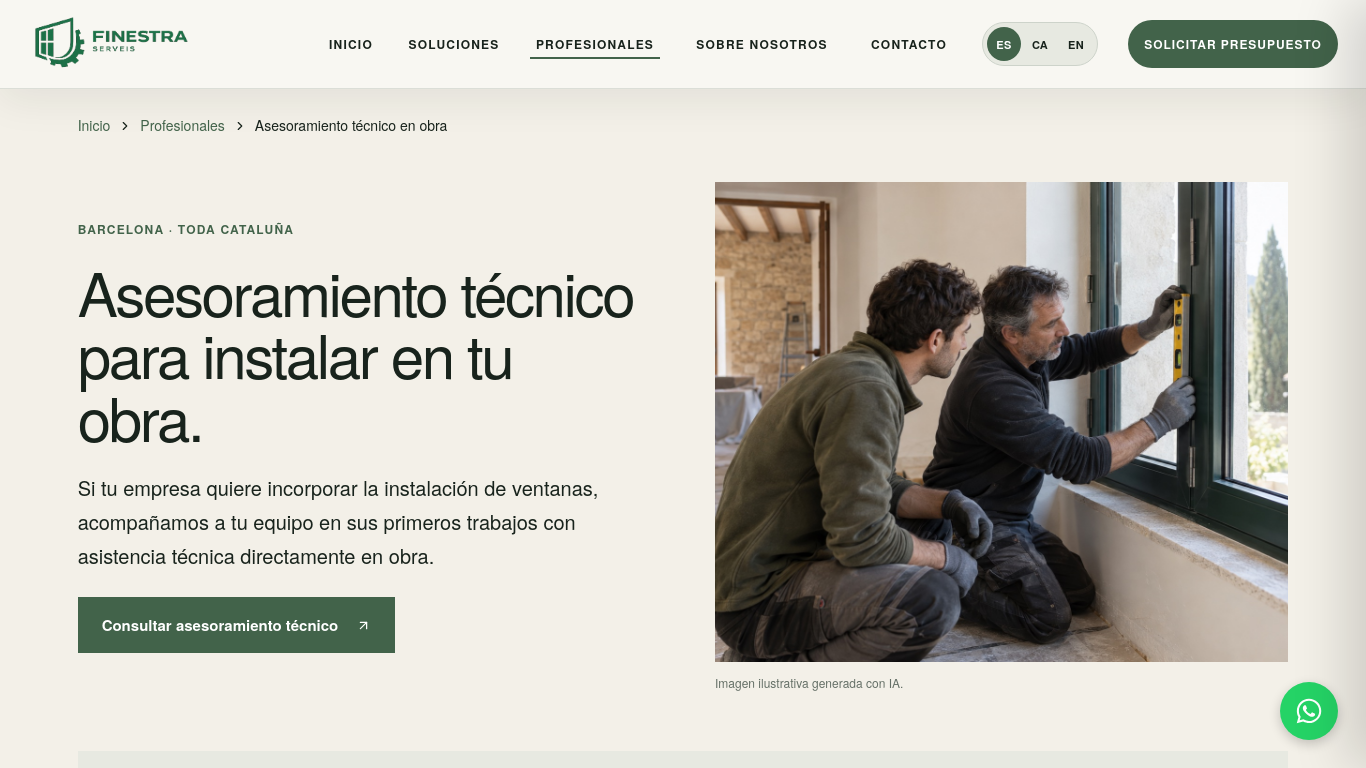
Test: language selection updates professional content and persists without navigation
Click the button with aria-label "English" at (1076, 44), box [1059,27,1093,61]
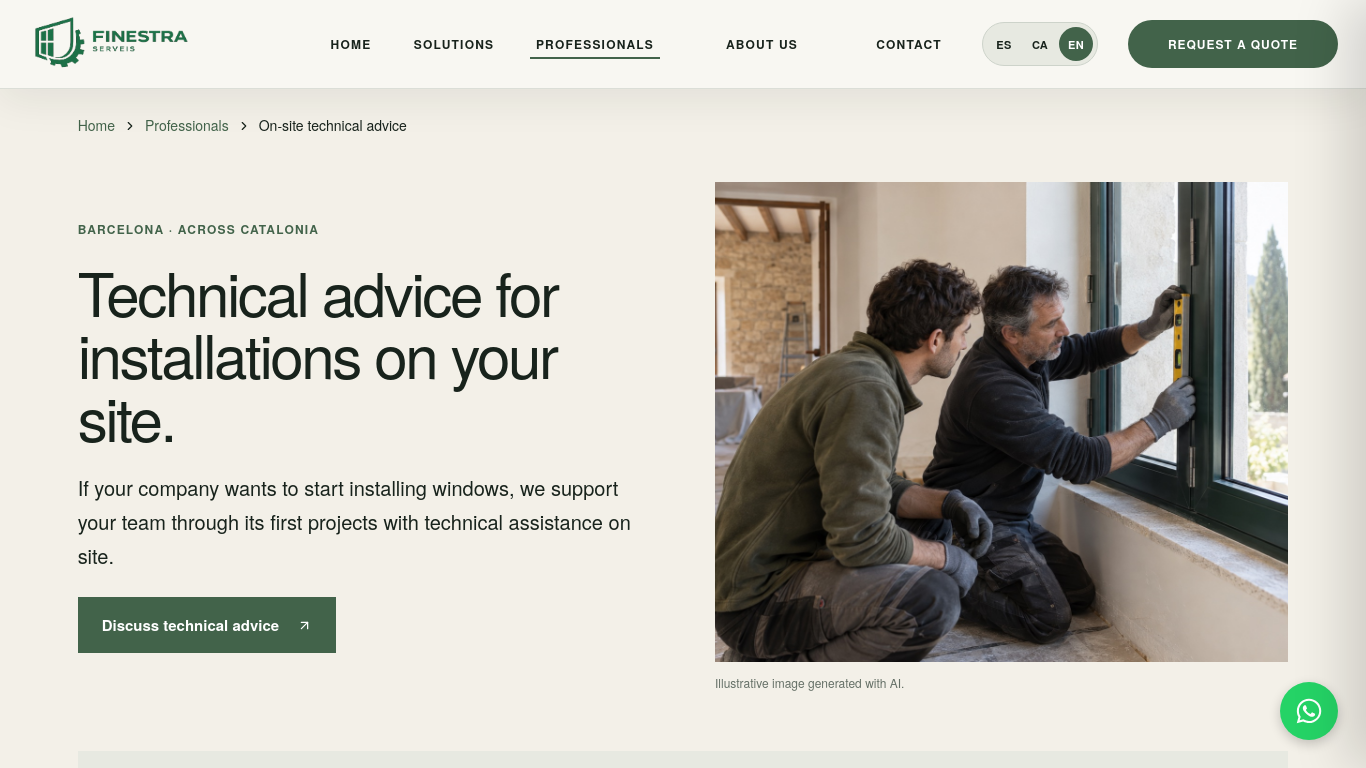
Check: the heading "Technical advice for installations on your site." is shown, box [78,248,558,459]
Click the button with aria-label "Català" at (1040, 44), box [1023,27,1057,61]
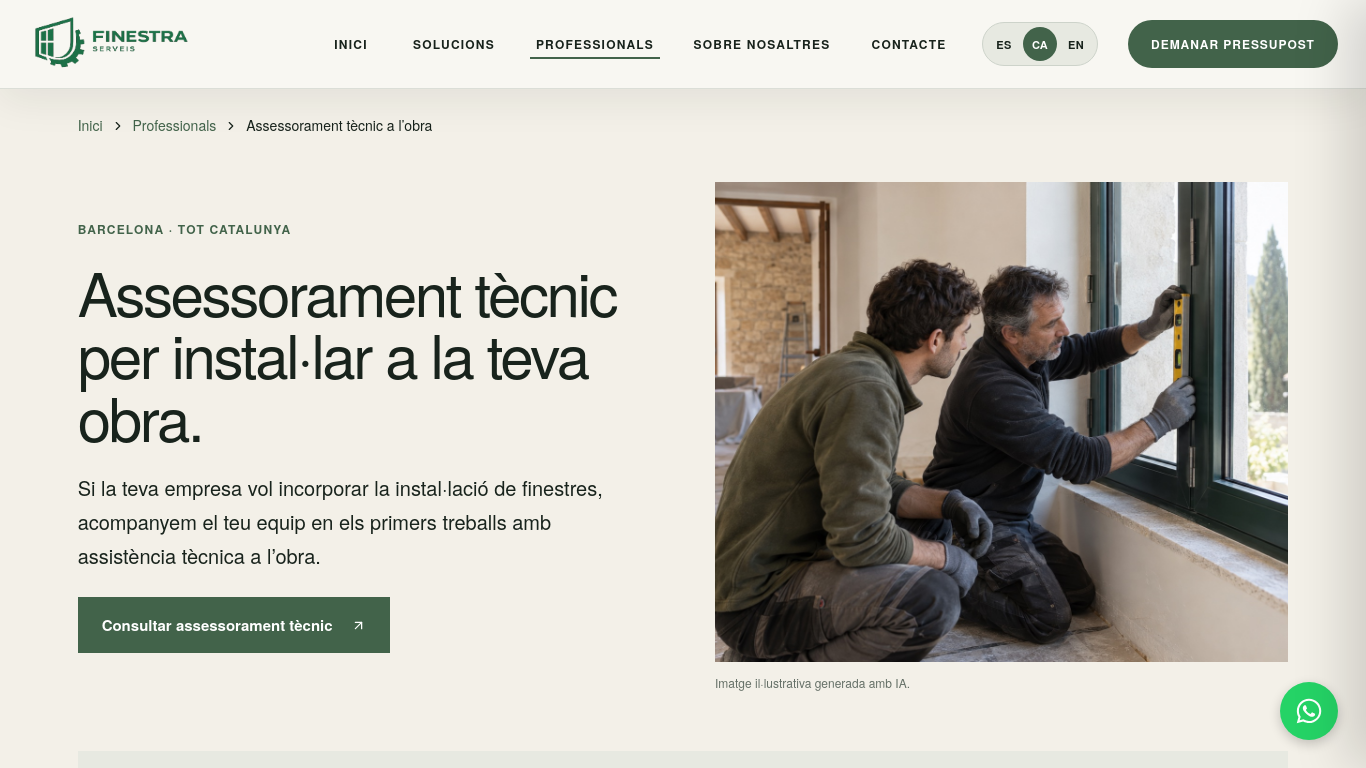
Check: the heading "Assessorament tècnic per instal·lar a la teva obra." is shown, box [78,260,651,447]
